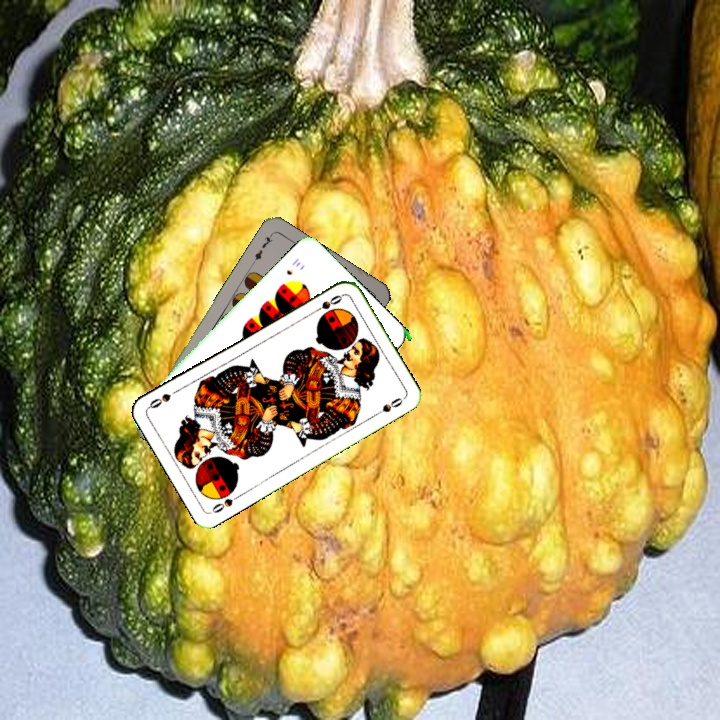E7: (249, 230, 276, 266)
S10: (282, 254, 304, 278)
SO: (208, 490, 244, 516), (308, 291, 345, 316)
